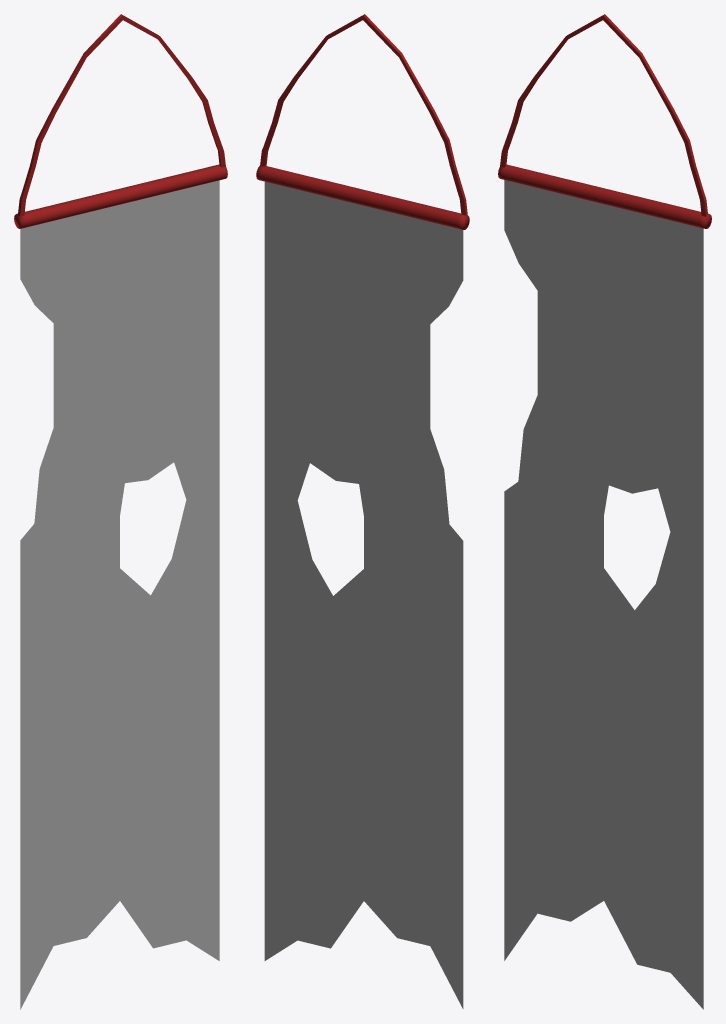
File: bannerTattered_02.fbx
3 renders of one model, left to right at view 1: azimuth 30°, elevation 25°; view 2: azimuth 150°, elevation 25°; view 3: azimuth 330°, elevation 25°, orthographic.
Parts seen in each view (by area): view 1: bannerTattered, bannerFixture; view 2: bannerTattered, bannerFixture; view 3: bannerTattered, bannerFixture.
Part boxes in pixels (x1,y1,x2,y2): bannerTattered: (20,180,219,1009); bannerFixture: (14,14,227,228); bannerTattered: (264,181,463,1008); bannerFixture: (256,14,469,229); bannerTattered: (504,180,703,1009); bannerFixture: (498,14,711,228).
Size of the model in its own units: 2.29 by 10.33 by 0.1497.
